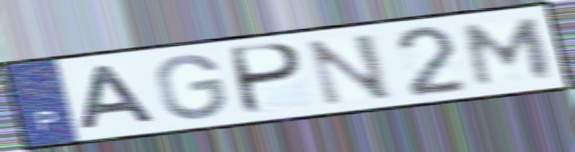2: (393, 24, 472, 100)
A: (78, 62, 162, 133)
G: (153, 52, 230, 122)
M: (461, 15, 557, 89)
N: (303, 30, 397, 109)
P: (230, 41, 308, 118)
